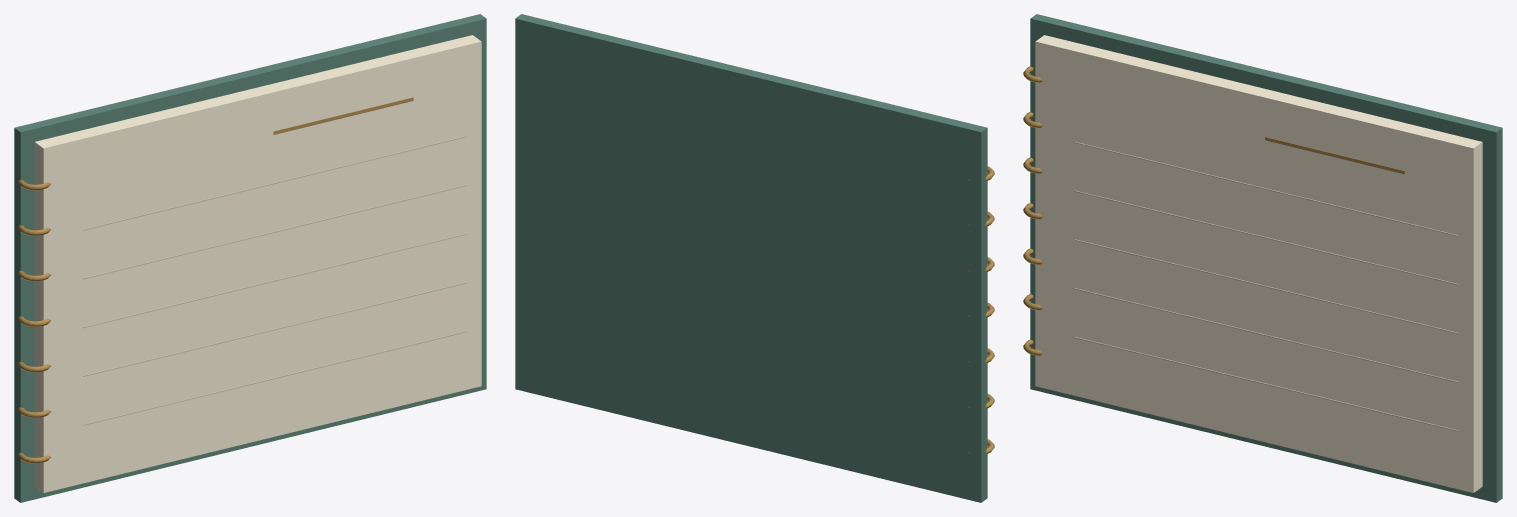
Rendered from lyric_notebook.glb.
3 renders of one model, left to right at view 1: azimuth 30°, elevation 25°; view 2: azimuth 150°, elevation 25°; view 3: azimuth 330°, elevation 25°, orthographic.
Visible parts, largest first — view 1: PaperStack, SoftCover, Rule.001, Rule.002, Rule.003, Rule.004, Rule, Header; view 2: SoftCover; view 3: PaperStack, SoftCover, Rule.002, Rule.003, Rule, Rule.001, Rule.004, Header.
Boxes of the visible parts, bbox=[...] form: PaperStack: bbox=[34, 35, 481, 492]; SoftCover: bbox=[14, 14, 486, 502]; Rule.001: bbox=[83, 184, 467, 279]; Rule.002: bbox=[83, 233, 467, 328]; Rule.003: bbox=[83, 282, 467, 376]; Rule.004: bbox=[83, 331, 467, 425]; Rule: bbox=[83, 135, 467, 230]; Header: bbox=[273, 97, 413, 134]; SoftCover: bbox=[515, 14, 987, 502]; PaperStack: bbox=[1035, 35, 1482, 492]; SoftCover: bbox=[1030, 14, 1502, 502]; Rule.002: bbox=[1074, 239, 1458, 334]; Rule.003: bbox=[1074, 288, 1458, 382]; Rule: bbox=[1074, 142, 1458, 236]; Rule.001: bbox=[1074, 190, 1458, 285]; Rule.004: bbox=[1074, 337, 1458, 431]; Header: bbox=[1265, 137, 1404, 174].
Size of the model in its own units: 0.3018 by 0.228 by 0.0196.
